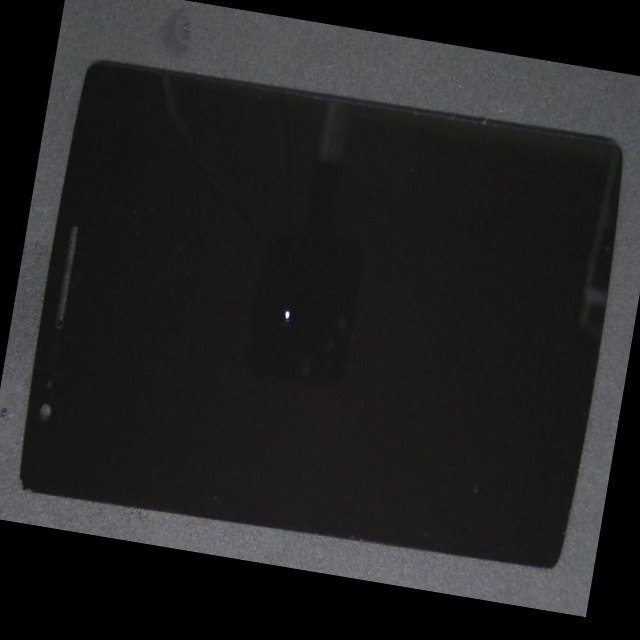stain: (89, 159, 437, 503)
